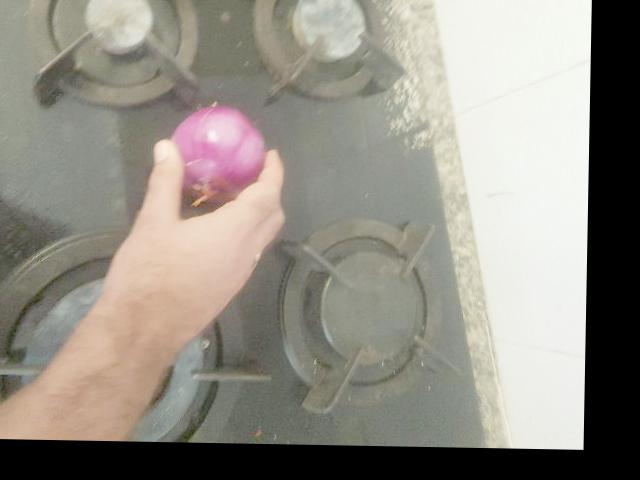onion: (353, 26, 452, 124)
